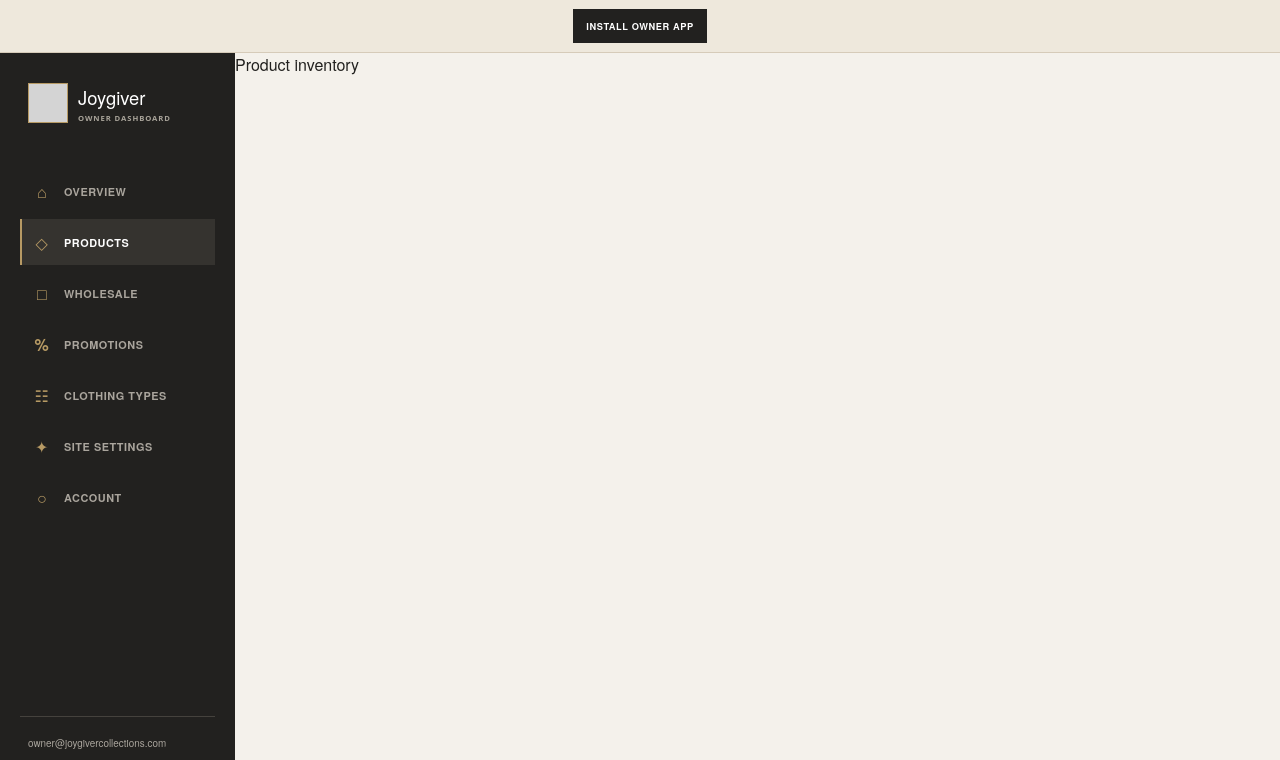
Test: shows Safari installation instructions on iPhone
This screenshot has width=1280, height=760.
Click the heading "Install owner app" at [640, 26], box x1=573 y1=9 x2=707 y2=43
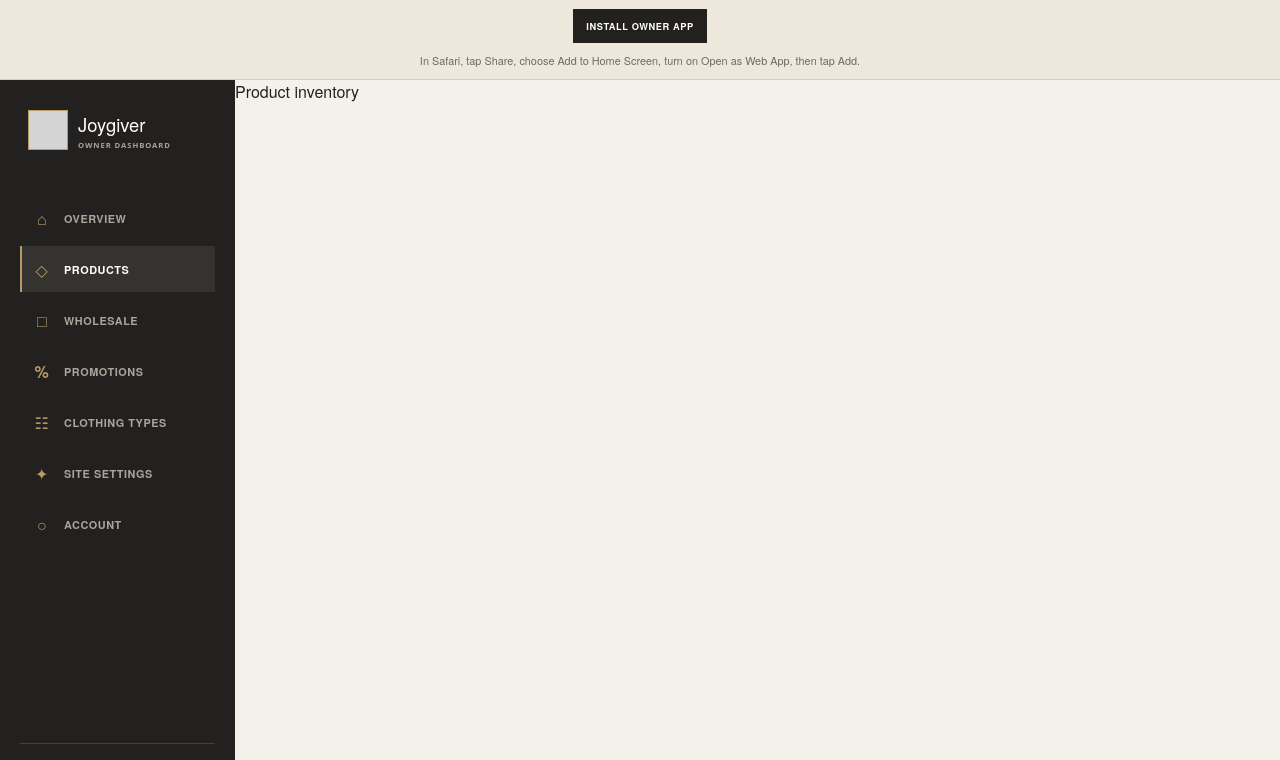
Check: the text "tap Share, choose Add to Home Screen" is shown, box x1=420 y1=53 x2=860 y2=68
